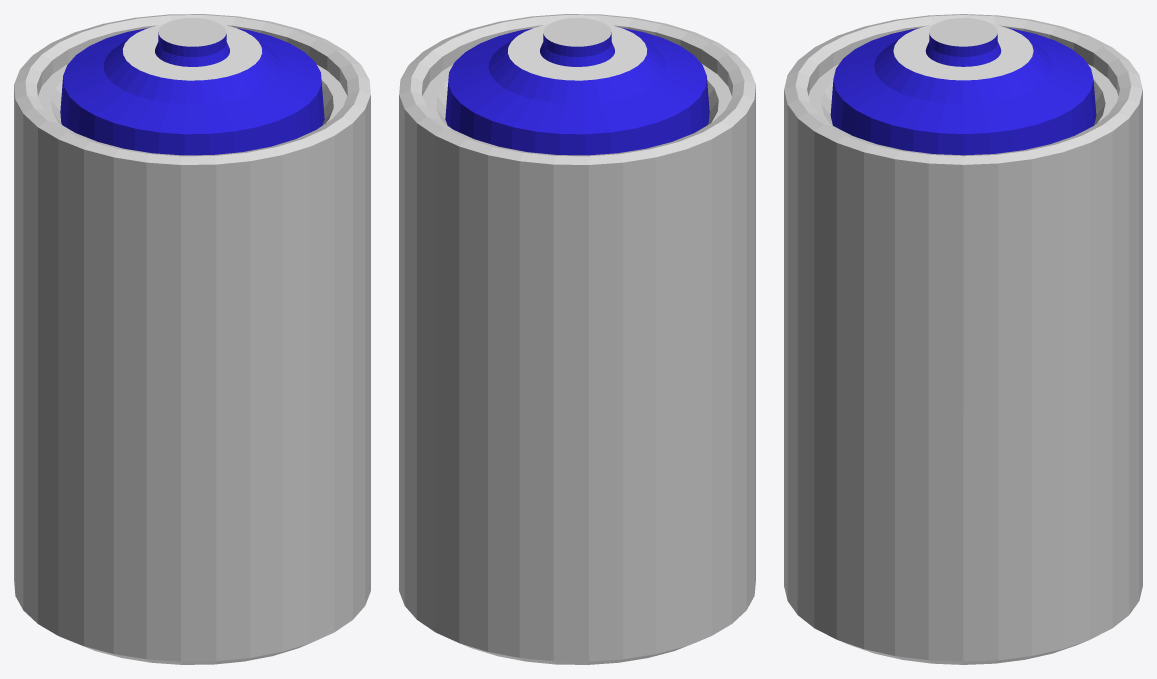
The model's file is battery.fbx.
3 views of the same model, side by side, from view 1: azimuth 30°, elevation 25°; view 2: azimuth 150°, elevation 25°; view 3: azimuth 270°, elevation 25° (orthographic).
Visible parts, largest first — view 1: Cylinder.032, Cylinder.033; view 2: Cylinder.032, Cylinder.033; view 3: Cylinder.032, Cylinder.033.
Boxes of the visible parts, box(x1,y1,x2,y2) form: Cylinder.032: box(14, 14, 370, 664); Cylinder.033: box(60, 24, 324, 155); Cylinder.032: box(399, 14, 755, 664); Cylinder.033: box(445, 24, 709, 155); Cylinder.032: box(784, 14, 1142, 664); Cylinder.033: box(830, 24, 1096, 155).
Size of the model in its own units: 5.15 by 9.18 by 5.18.
